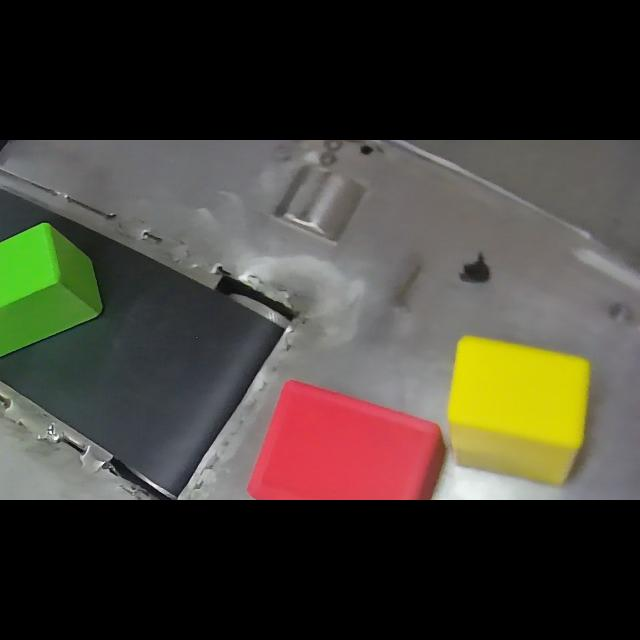greenBox: (0, 215, 108, 368)
redBox: (241, 368, 447, 499)
yellowBox: (444, 328, 598, 492)
